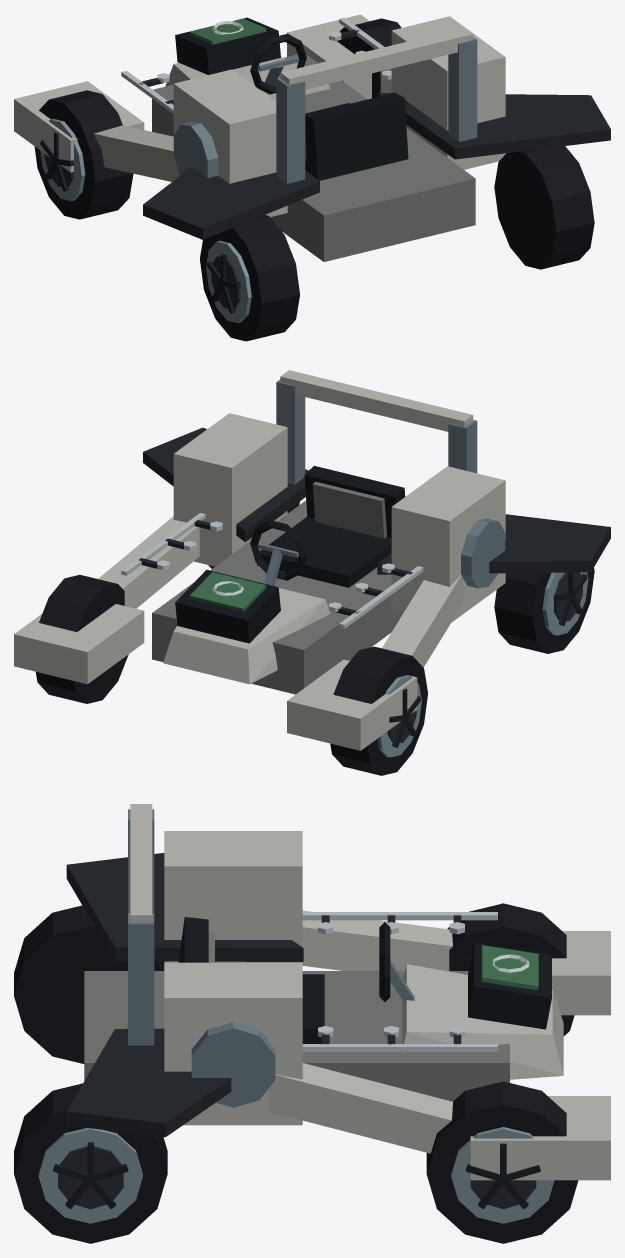
Rendered from kart.glb.
The picture shows the model from 3 angles, top to bottom: view 1: azimuth 30°, elevation 25°; view 2: azimuth 150°, elevation 25°; view 3: azimuth 270°, elevation 25°; orthographic projection. The views are drawn at different scales.
Visible parts, largest first — view 1: identity-mech-mech-articulated-limbs-and-open-harness, identity-mech-motif-wings, wheel-rear-right, wheel-rear-left, identity-mech-driver-cockpit, wheel-front-left, identity-mech-motif-scanner, identity-mech-motif-circuit, wheel-front-right; view 2: identity-mech-mech-articulated-limbs-and-open-harness, identity-mech-driver-cockpit, identity-mech-motif-wings, wheel-front-left, wheel-rear-left, identity-mech-motif-scanner, wheel-front-right, identity-mech-motif-circuit; view 3: identity-mech-mech-articulated-limbs-and-open-harness, identity-mech-motif-wings, wheel-rear-right, wheel-front-right, wheel-rear-left, identity-mech-motif-scanner, wheel-front-left, identity-mech-motif-circuit, identity-mech-driver-cockpit.
Part boxes in pixels (<box>): identity-mech-mech-articulated-limbs-and-open-harness: <box>14,14,505,261</box>; identity-mech-motif-wings: <box>143,93,610,239</box>; wheel-rear-right: <box>494,146,594,269</box>; wheel-rear-left: <box>200,215,299,341</box>; identity-mech-driver-cockpit: <box>250,34,408,180</box>; wheel-front-left: <box>34,90,133,219</box>; identity-mech-motif-scanner: <box>175,17,280,74</box>; identity-mech-motif-circuit: <box>121,17,391,113</box>; wheel-front-right: <box>337,18,401,98</box>; identity-mech-mech-articulated-limbs-and-open-harness: <box>14,370,505,750</box>; identity-mech-driver-cockpit: <box>250,465,405,587</box>; identity-mech-motif-wings: <box>143,427,610,574</box>; wheel-front-left: <box>330,646,427,775</box>; wheel-rear-left: <box>494,568,594,653</box>; identity-mech-motif-scanner: <box>175,569,280,643</box>; wheel-front-right: <box>35,574,128,703</box>; identity-mech-motif-circuit: <box>121,513,423,628</box>; identity-mech-mech-articulated-limbs-and-open-harness: <box>84,804,610,1180</box>; identity-mech-motif-wings: <box>66,853,303,1137</box>; wheel-rear-right: <box>14,1083,167,1243</box>; wheel-front-right: <box>426,1081,578,1243</box>; wheel-rear-left: <box>14,905,164,1063</box>; identity-mech-motif-scanner: <box>468,942,551,1029</box>; wheel-front-left: <box>447,903,574,1036</box>; identity-mech-motif-circuit: <box>302,912,497,1051</box>; identity-mech-driver-cockpit: <box>178,917,414,1043</box>.
Size of the model in its own units: 2.92 by 1.42 by 2.72.
